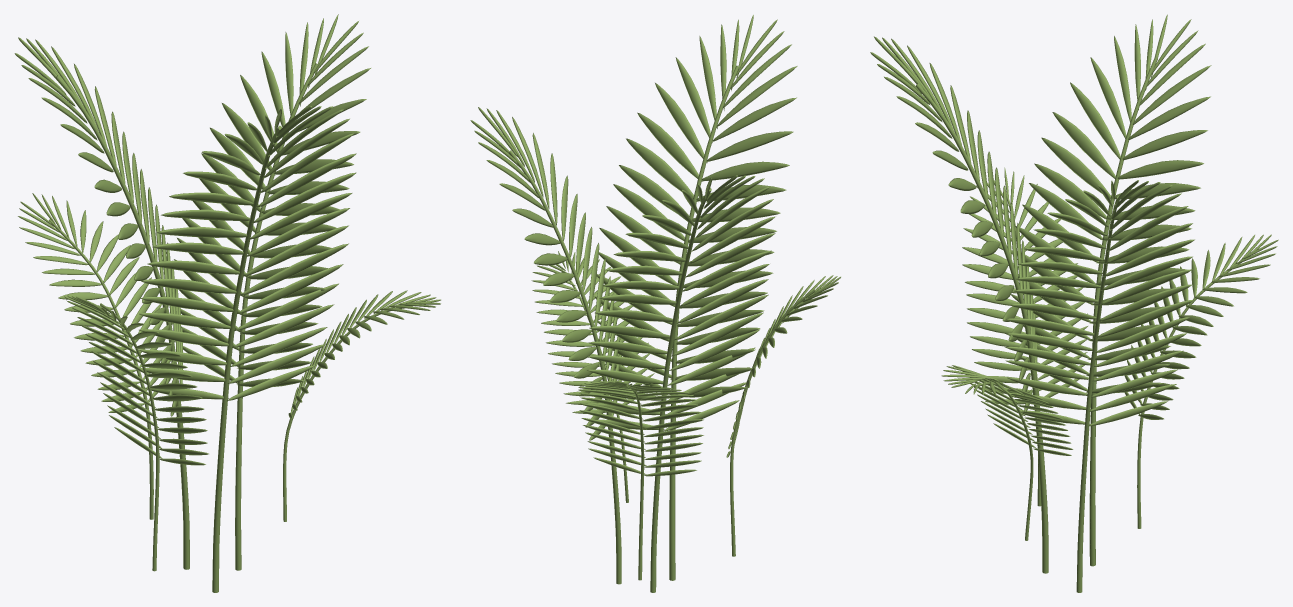
The model's file is palm.glb.
The picture shows the model from 3 angles, left to right: view 1: azimuth 30°, elevation 25°; view 2: azimuth 150°, elevation 25°; view 3: azimuth 270°, elevation 25°; orthographic projection. The views are drawn at different scales.
Parts seen in each view (by area): view 1: NurbsPath.039; view 2: NurbsPath.039; view 3: NurbsPath.039.
Part boxes in pixels (x1,y1,x2,y2): NurbsPath.039: [14, 14, 440, 592]; NurbsPath.039: [470, 15, 840, 592]; NurbsPath.039: [870, 14, 1278, 592].
Bounding box in the file's own units: 15.76 × 24.31 × 17.14.
